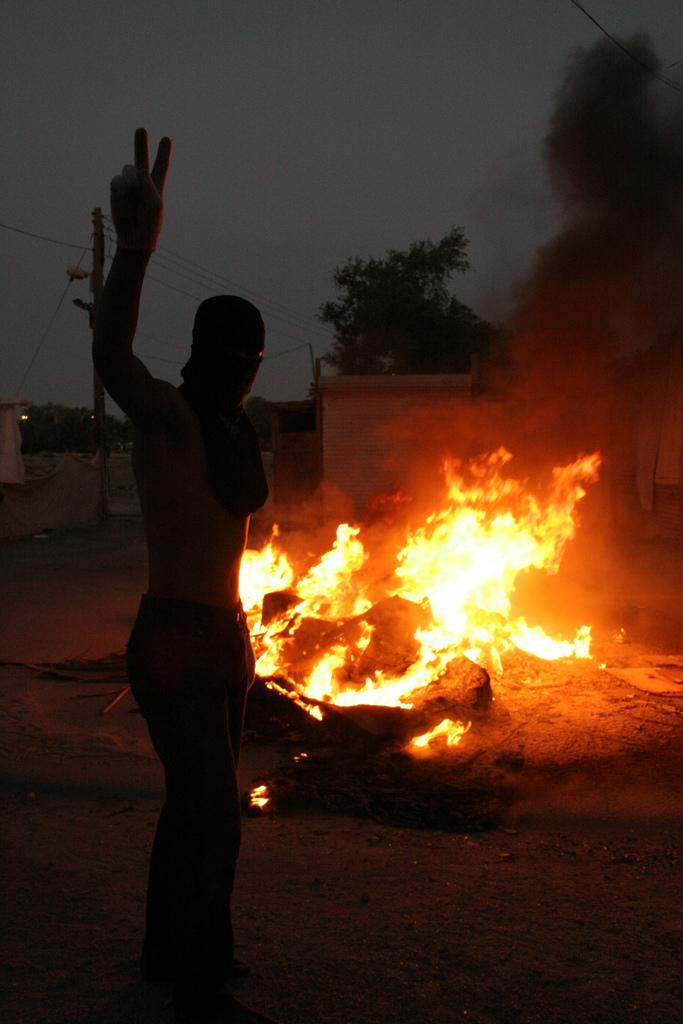fire: (412, 475, 562, 658), (242, 540, 387, 600)
